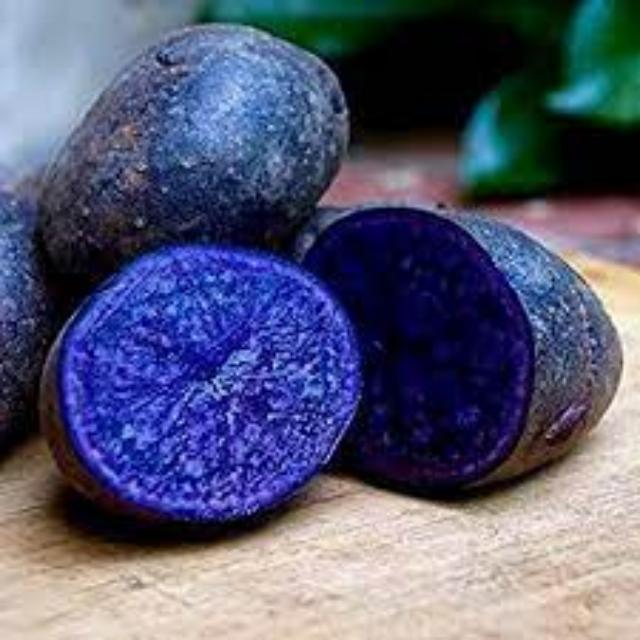Defected potato: (300, 172, 622, 512), (29, 247, 360, 548), (22, 18, 330, 276)
